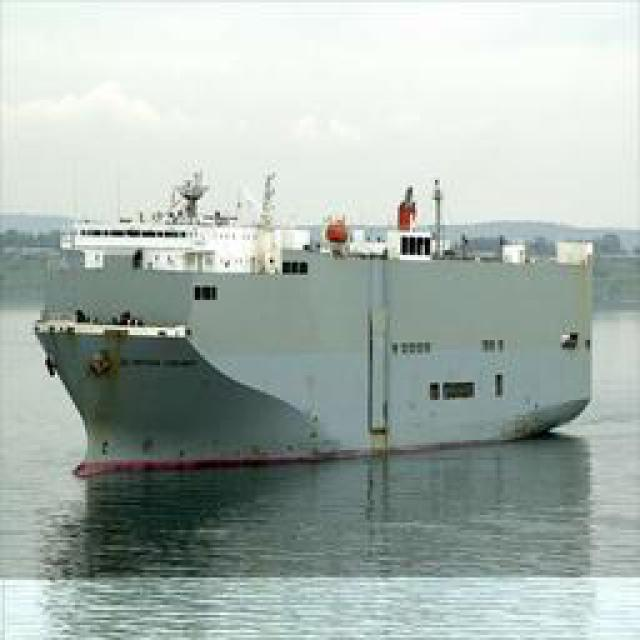Ship: (42, 204, 612, 469)
